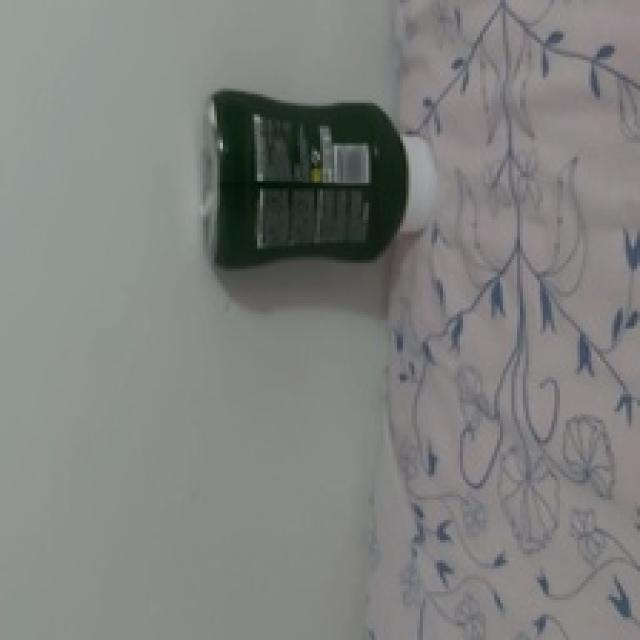good: (178, 82, 438, 278)
